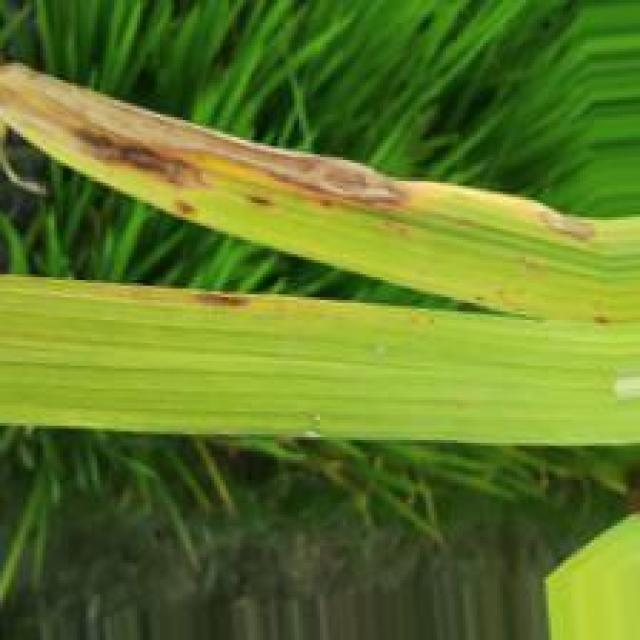Rice False Smut: (27, 68, 414, 213), (182, 292, 254, 308)
